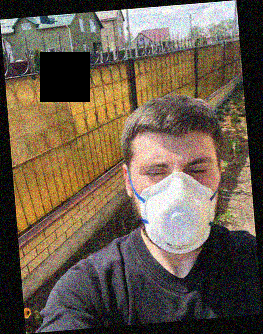with_mask: (134, 146, 221, 255)
